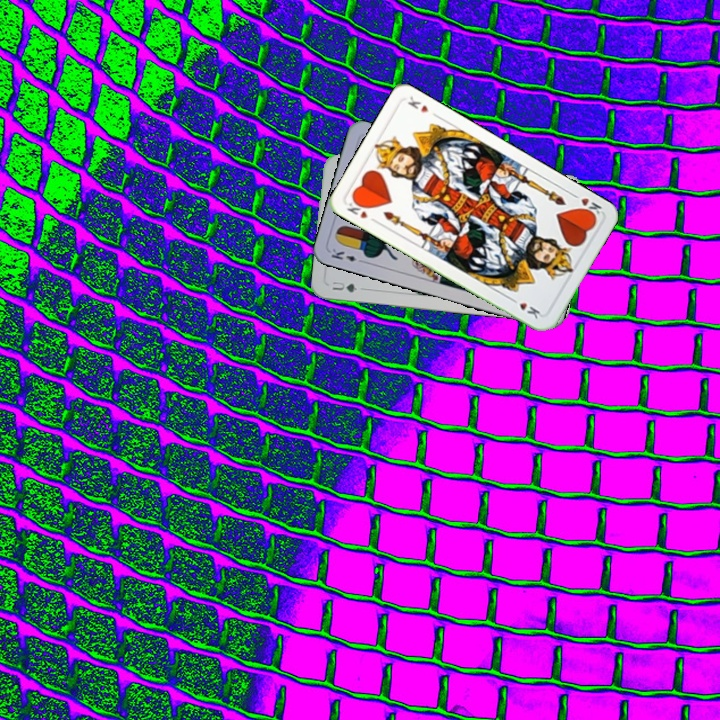EK: (327, 244, 367, 266)
GU: (328, 277, 359, 295)
HK: (567, 189, 605, 220), (343, 195, 380, 226)
